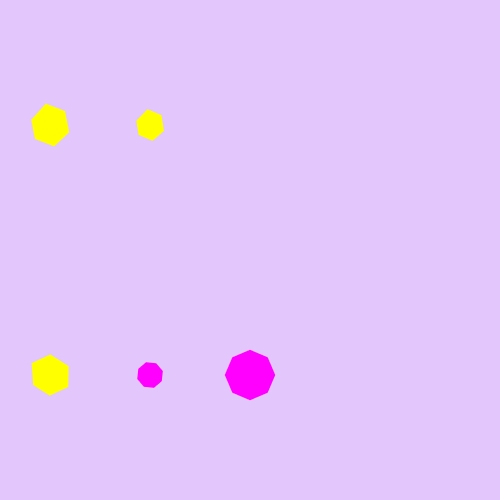hexagon: (25, 104, 76, 146), (25, 354, 76, 396), (130, 108, 170, 142)
octagon: (222, 347, 279, 404), (133, 358, 168, 393)
